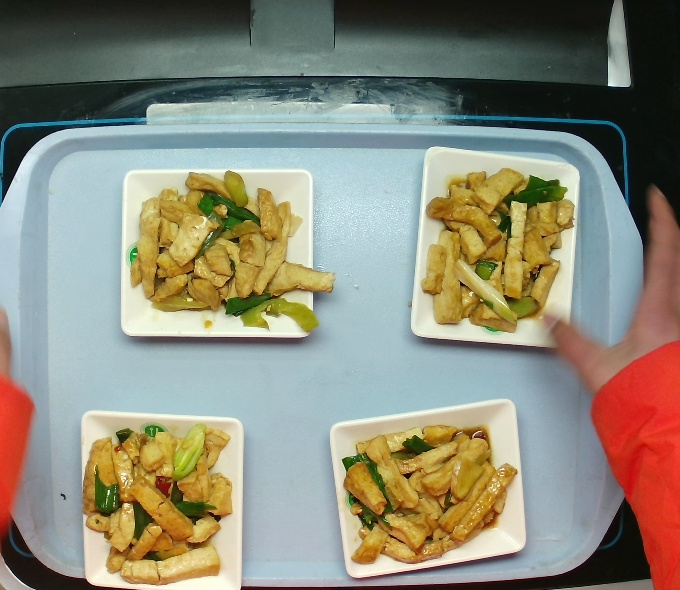wcq-SuanMiaoChaoXiangGan: (122, 167, 329, 341), (336, 415, 514, 572), (423, 168, 568, 335), (86, 420, 232, 583)
